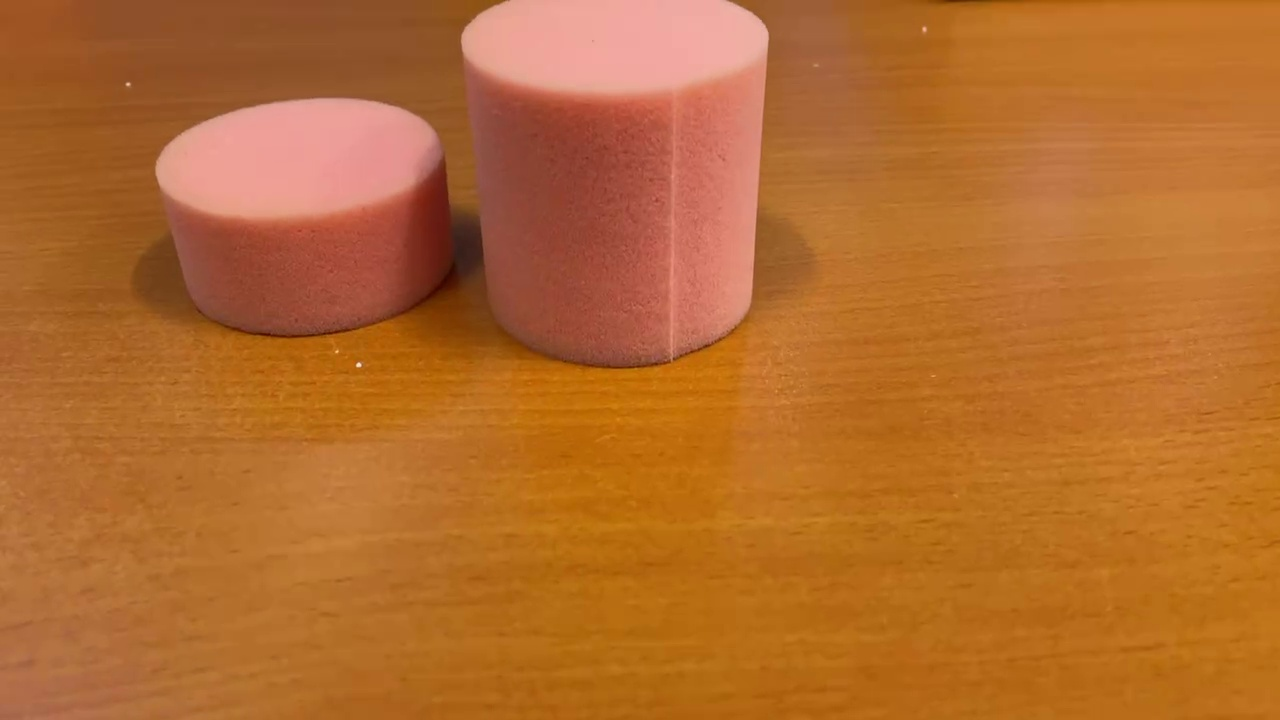Clyinder_short: (150, 92, 460, 340)
Cylinder: (459, 1, 773, 366)
